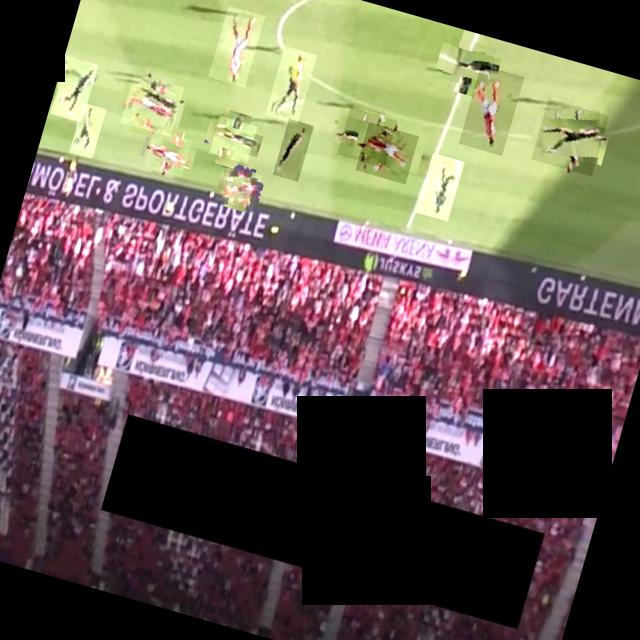referee: (264, 44, 316, 123)
soccer-player: (530, 97, 608, 175), (458, 63, 524, 154), (207, 4, 264, 86), (119, 72, 183, 135), (354, 120, 418, 182), (336, 106, 396, 166), (414, 151, 464, 220), (49, 55, 97, 122), (440, 34, 495, 89), (272, 117, 312, 180), (143, 128, 191, 176), (208, 114, 256, 162), (68, 101, 105, 158), (216, 164, 261, 209)
